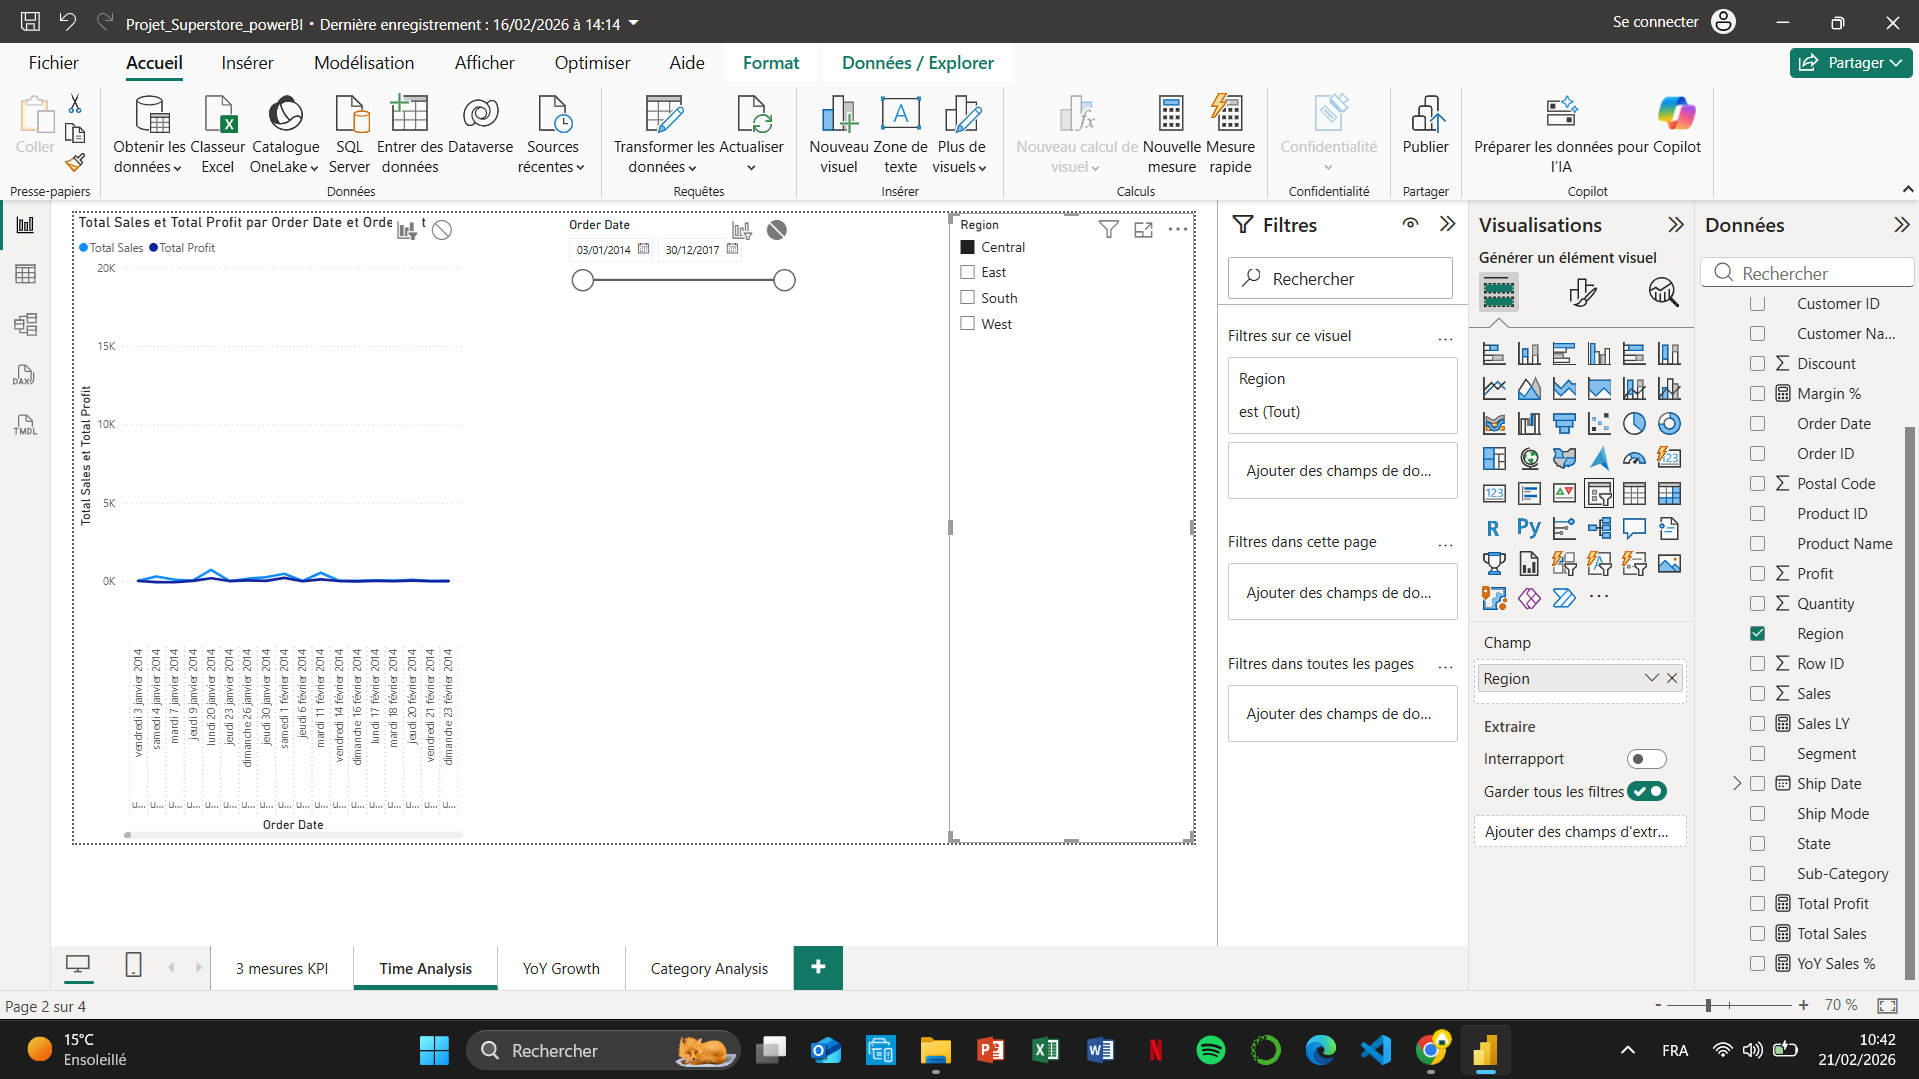

This screenshot's page, from the dashboard's own definition file:
{"tool":"powerbi","page":{"name":"Time Analysis","canvas":[1280,720],"ordinal":1},"visuals":[{"type":"slicer","fields":{"Values":["Fact_Sales.Order Date"]},"box":[552.2,0,280,720],"z":0},{"type":"slicer","fields":{"Values":["Fact_Sales.Region"]},"box":[1000,0,280,720],"z":1000},{"type":"lineChart","fields":{"Category":["Fact_Sales.Order Date.Variation.Hiérarchie de dates.Mois","Fact_Sales.Order Date.Variation.Hiérarchie de dates.Année"],"Y":["Fact_Sales.Total Sales","Fact_Sales.Total Profit"]},"box":[0,0,450,720],"z":2000}]}

Visuals, with their boxes on the page's 1280x720 design canvas (x1, y1, x2, y2). These are canvas units, not pixel positions in the 1919x1079 screenshot, which may show the page scaled, cropped or inside an application window:
slicer - Fact_Sales.Order Date: [left=552, top=0, right=832, bottom=720]
slicer - Fact_Sales.Region: [left=1000, top=0, right=1280, bottom=720]
lineChart - Fact_Sales.Order Date.Variation.Hiérarchie de dates.Mois x Fact_Sales.Order Date.Variation.Hiérarchie de dates.Année: [left=0, top=0, right=450, bottom=720]
